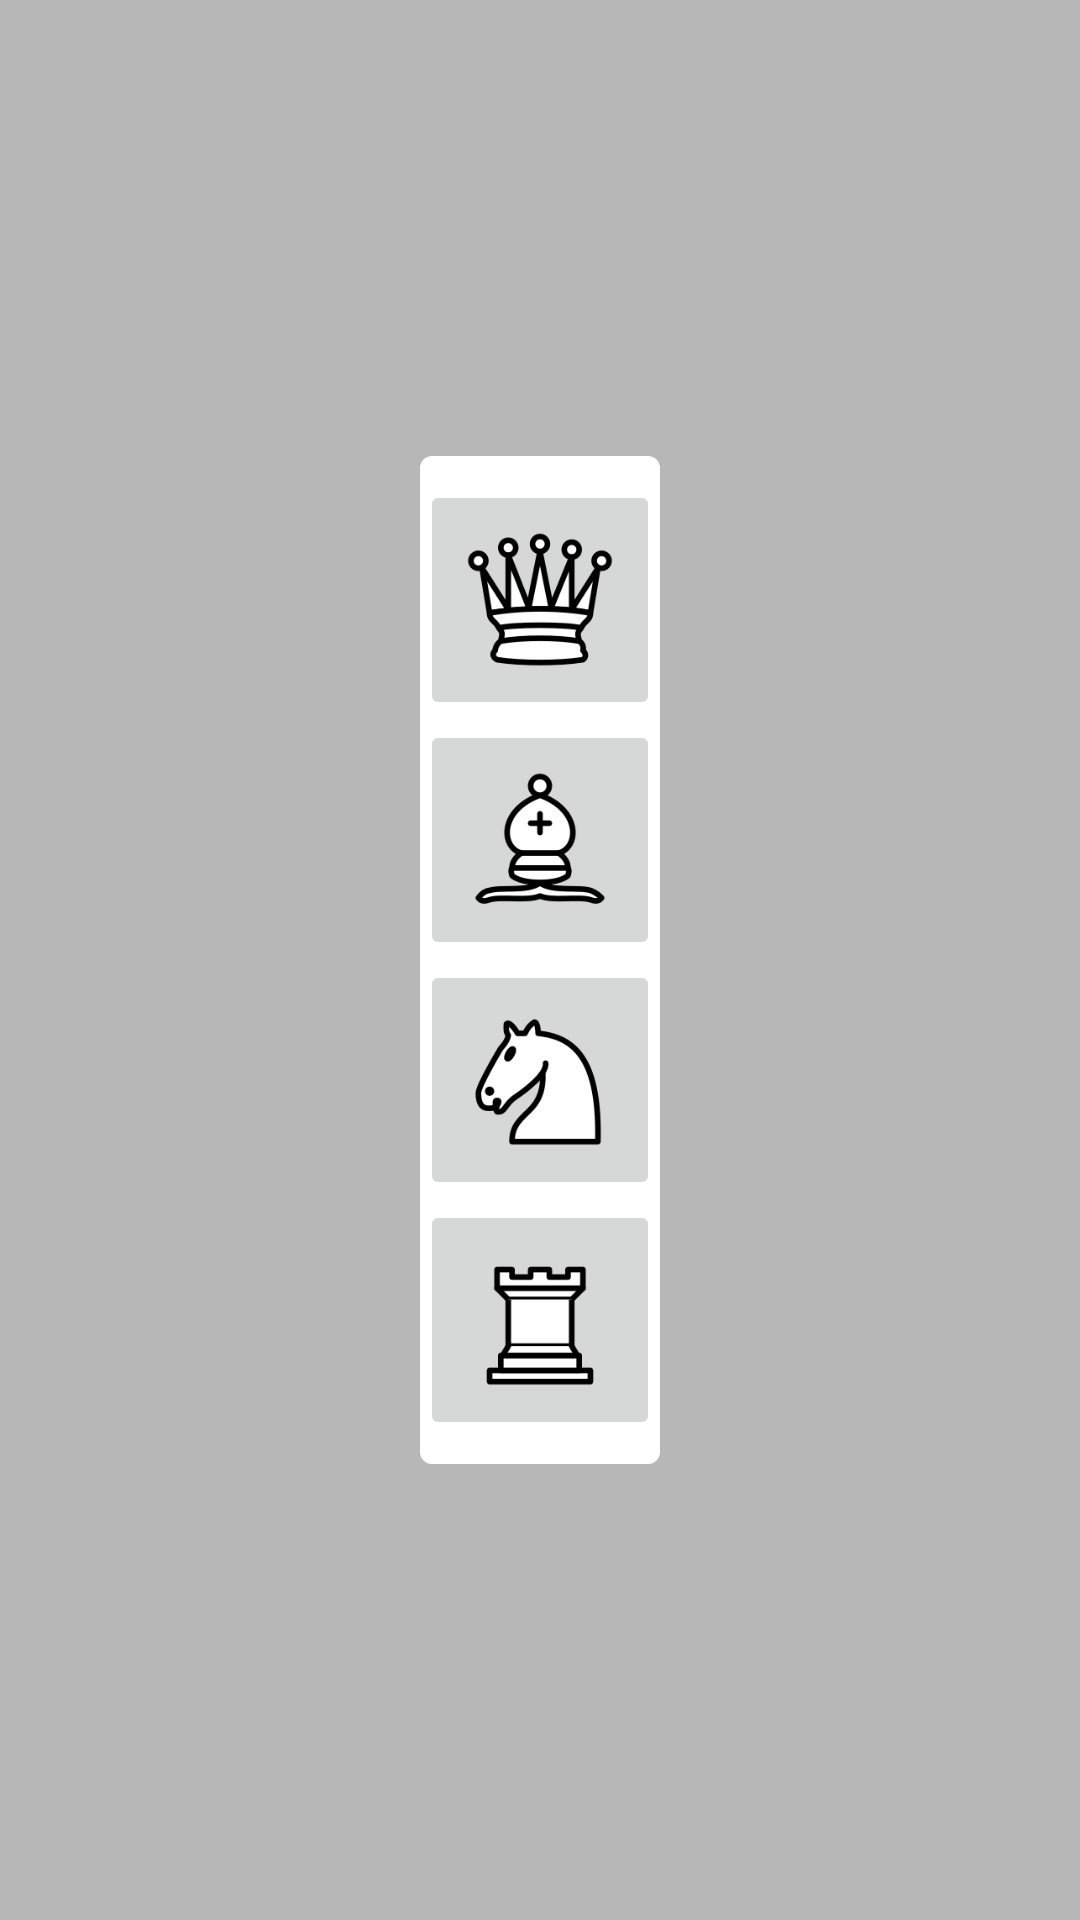

Where to tap for icons on this 1080x1920 app screen, as point (x, y):
bishop: point (540, 840)
knight: point (540, 1080)
queen: point (540, 600)
rook: point (540, 1320)
